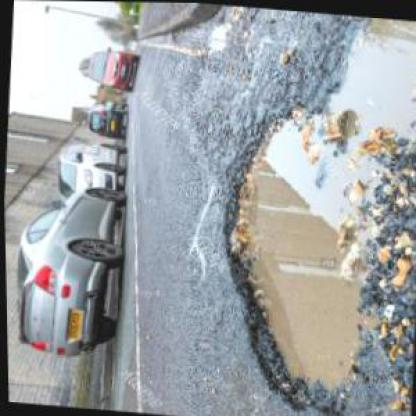pothole: (199, 93, 410, 415), (308, 10, 414, 166), (201, 19, 230, 53)
